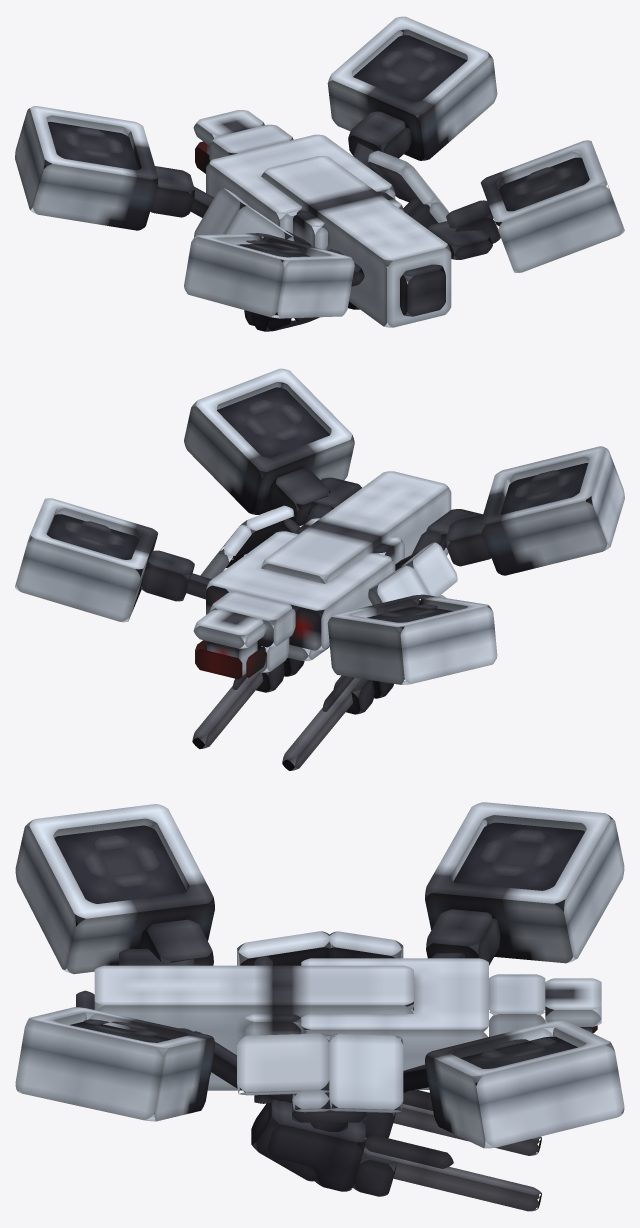
Rendered from wasp.fbx.
The picture shows the model from 3 angles, top to bottom: view 1: azimuth 30°, elevation 25°; view 2: azimuth 150°, elevation 25°; view 3: azimuth 270°, elevation 25°; orthographic projection. The views are drawn at different scales.
Visible parts, largest first — view 1: cube, cube_36, cube_46, cube_31, cube_41, cube_2, cube_48, cube_38, cube_45, cube_1, cube_43, cube_35 (+14 smaller); view 2: cube_31, cube_36, cube_41, cube, cube_46, cube_2, cube_43, cube_5, cube_6, cube_22, cube_40, cube_45 (+20 smaller); view 3: cube, cube_36, cube_31, cube_46, cube_41, cube_2, cube_50, cube_33, cube_51, cube_38, cube_25, cube_28 (+23 smaller).
Boxes of the visible parts, x1,y1,x2,y2 form: cube: (261, 156, 451, 327); cube_36: (15, 106, 158, 230); cube_46: (327, 16, 497, 160); cube_31: (184, 233, 354, 318); cube_41: (480, 140, 624, 272); cube_2: (206, 134, 395, 233); cube_48: (353, 35, 467, 122); cube_38: (44, 121, 138, 170); cube_45: (348, 111, 411, 158); cube_1: (400, 264, 445, 316); cube_43: (499, 157, 589, 211); cube_35: (150, 166, 194, 217); cube_31: (480, 446, 624, 575); cube_36: (327, 594, 497, 684); cube_41: (184, 368, 354, 514); cube: (261, 471, 451, 625); cube_46: (15, 498, 157, 622); cube_2: (206, 531, 395, 650); cube_43: (217, 387, 329, 478); cube_5: (209, 591, 295, 647); cube_6: (193, 609, 266, 648); cube_22: (282, 677, 361, 770); cube_40: (268, 469, 330, 526); cube_45: (140, 550, 194, 601); cube: (94, 965, 413, 1090); cube_36: (425, 802, 624, 963); cube_31: (15, 804, 214, 974); cube_46: (425, 1020, 624, 1148); cube_41: (15, 1007, 214, 1121); cube_2: (301, 958, 488, 1070); cube_50: (326, 1034, 403, 1112); cube_33: (54, 825, 186, 923); cube_51: (237, 1033, 331, 1095); cube_38: (453, 822, 584, 915); cube_25: (267, 1101, 365, 1191); cube_28: (360, 1147, 541, 1211).
Bounding box in the file's own units: 228 × 96.44 × 204.
Materials: 1 (1 with a texture image).
